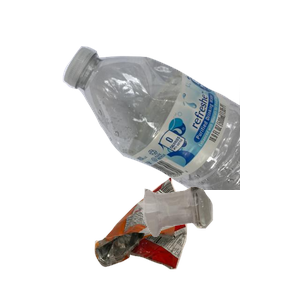glass: (141, 184, 300, 300)
metal: (99, 70, 236, 176)
plastic: (60, 44, 300, 224)
trash: (92, 174, 272, 300)
